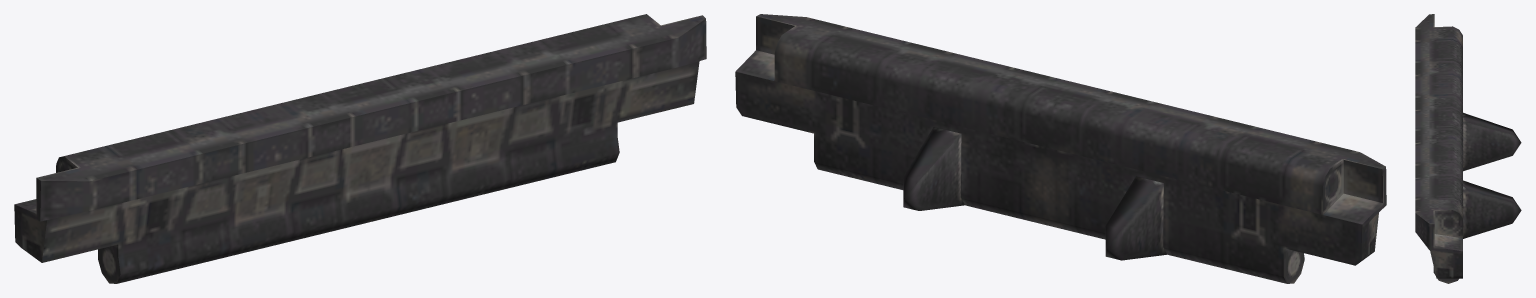
3 renders of one model, left to right at view 1: azimuth 30°, elevation 25°; view 2: azimuth 150°, elevation 25°; view 3: azimuth 270°, elevation 25°, orthographic. The views are drawn at different scales.
Parts seen in each view (by area): view 1: set_0_group_0; view 2: set_0_group_0; view 3: set_0_group_0.
Boxes of the visible parts, bbox=[...] form: set_0_group_0: bbox=[14, 14, 706, 283]; set_0_group_0: bbox=[735, 14, 1386, 283]; set_0_group_0: bbox=[1415, 14, 1521, 283].
Bounding box in the file's own units: 0.9735 × 0.1884 × 0.208.
1 material, 1 textured.
